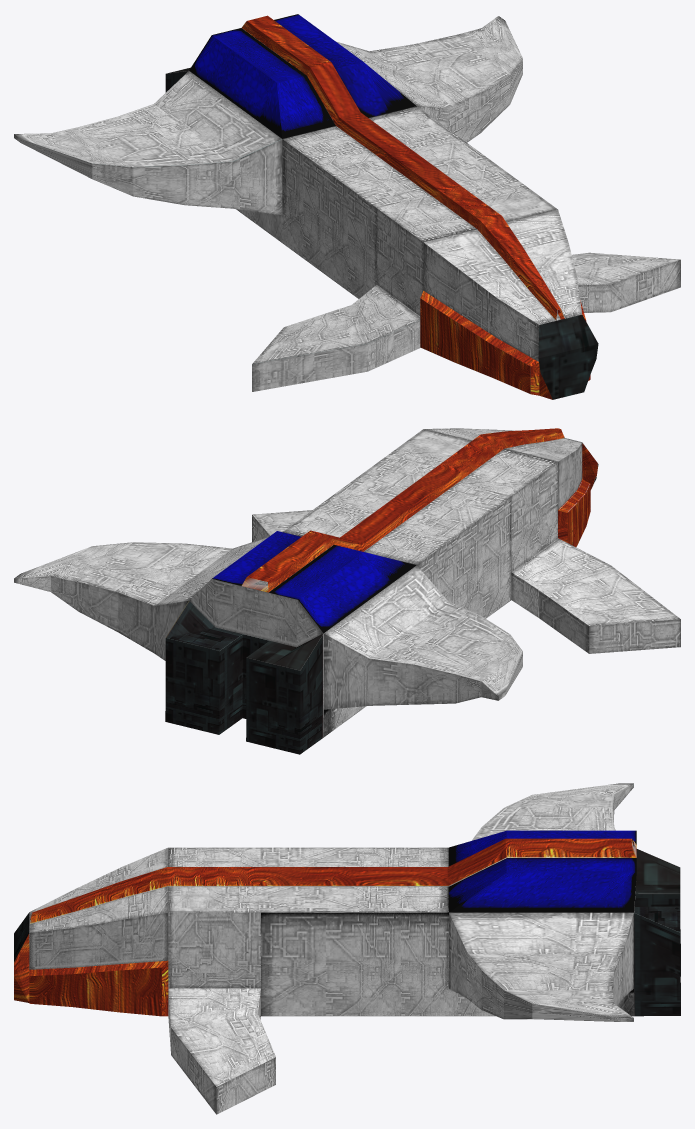
Rendered from Cargo Ship.FBX.
The picture shows the model from 3 angles, top to bottom: view 1: azimuth 30°, elevation 25°; view 2: azimuth 150°, elevation 25°; view 3: azimuth 270°, elevation 25°; orthographic projection.
Parts seen in each view (by area): view 1: Object001; view 2: Object001; view 3: Object001.
Part boxes in pixels (x1=…): Object001: x1=14, y1=14, x2=680, y2=399; Object001: x1=14, y1=428, x2=680, y2=754; Object001: x1=14, y1=783, x2=680, y2=1114.
Bounding box in the file's own units: 142 × 47.06 × 170.
1 material, 1 textured.
